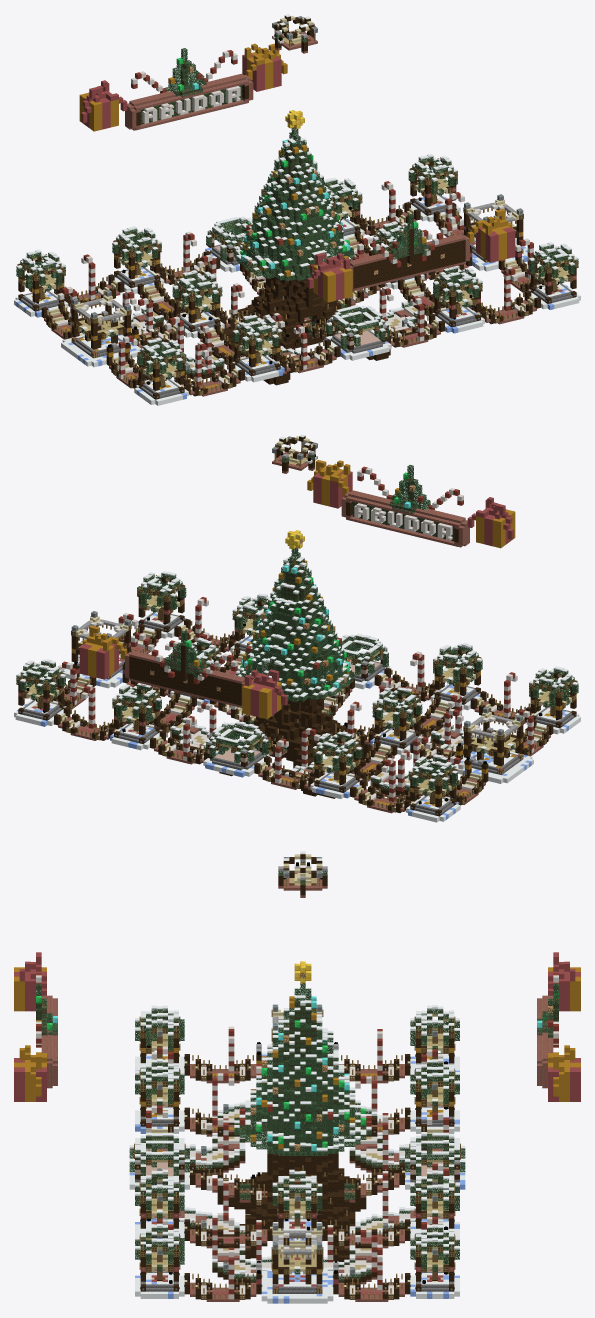
File: minecraft.obj
The picture shows the model from 3 angles, top to bottom: view 1: azimuth 30°, elevation 25°; view 2: azimuth 150°, elevation 25°; view 3: azimuth 270°, elevation 25°; orthographic projection. The views are drawn at different scales.
Size of the model in its own units: 107 by 74.12 by 103.
